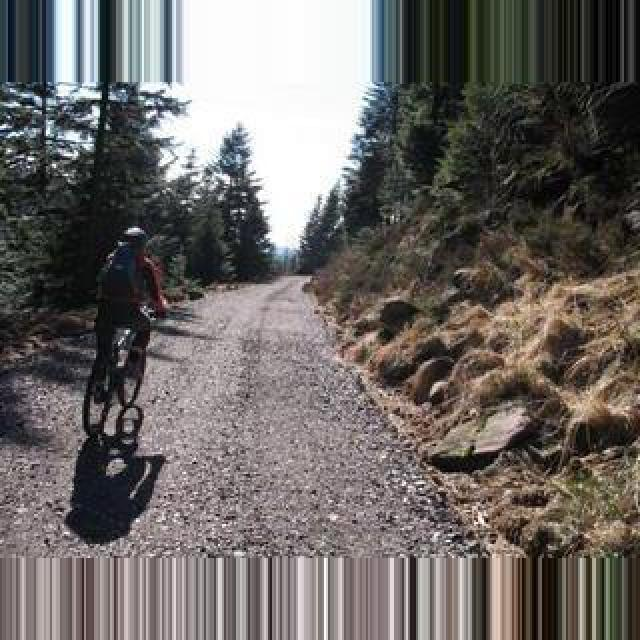MC-Bike: (84, 226, 170, 430)
Person: (81, 320, 149, 442)
